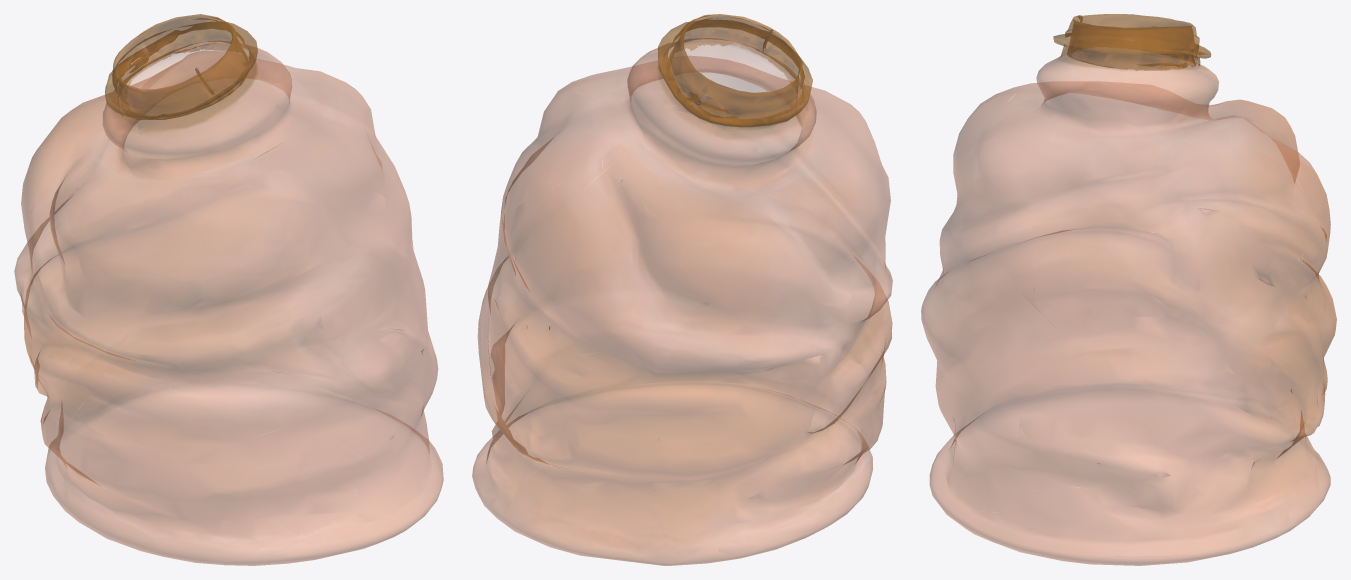
Rendered from 07_7_nj_et_brw_l_trs-opt-v41.glb.
3 renders of one model, left to right at view 1: azimuth 30°, elevation 25°; view 2: azimuth 150°, elevation 25°; view 3: azimuth 270°, elevation 25°, orthographic. The views are drawn at different scales.
Visible parts, largest first — view 1: brwn.002; view 2: brwn.002; view 3: brwn.002.
Boxes of the visible parts, bbox=[...] form: brwn.002: bbox=[14, 14, 443, 565]; brwn.002: bbox=[472, 14, 892, 565]; brwn.002: bbox=[921, 14, 1336, 565].
Size of the model in its own units: 0.2442 by 0.3 by 0.2444.
Materials: 1 (1 with a texture image).
